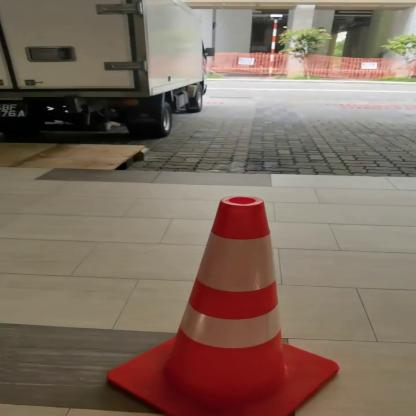cone: (90, 191, 370, 416)
